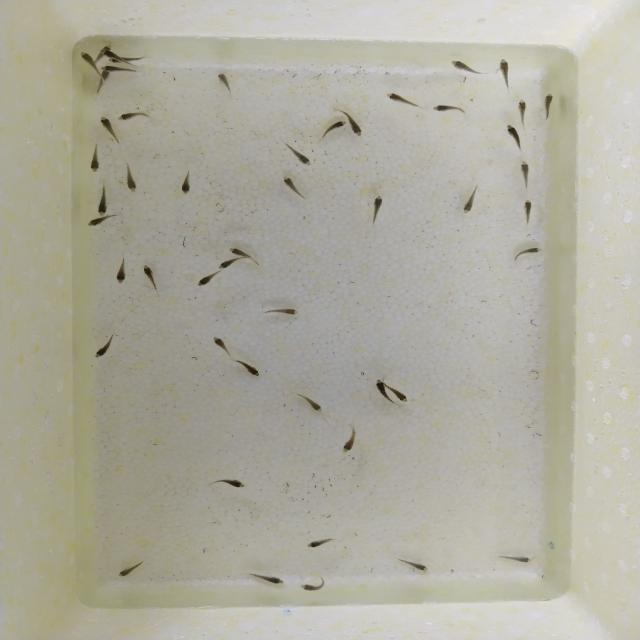fingerling: (89, 329, 125, 361), (339, 419, 364, 459), (115, 160, 142, 193), (290, 392, 330, 414), (341, 106, 366, 139), (284, 139, 314, 166), (445, 60, 488, 78), (140, 262, 164, 294), (120, 555, 148, 582), (278, 176, 306, 202), (394, 554, 434, 572), (204, 477, 251, 492), (297, 534, 341, 550), (461, 184, 481, 219), (366, 190, 386, 224), (501, 123, 526, 150), (110, 251, 128, 287), (384, 90, 418, 109), (84, 213, 120, 230), (514, 245, 546, 264), (215, 74, 238, 100), (85, 144, 105, 173), (496, 552, 536, 566), (97, 117, 120, 141), (320, 116, 343, 140), (496, 58, 513, 90), (249, 572, 286, 586), (520, 197, 537, 227), (514, 100, 532, 128), (210, 336, 234, 357), (392, 380, 413, 404), (297, 582, 335, 595), (516, 159, 534, 186), (268, 305, 302, 319), (235, 360, 260, 379), (92, 189, 108, 217), (176, 168, 193, 194), (430, 102, 470, 113), (369, 377, 388, 399), (195, 274, 220, 290), (77, 51, 95, 73), (215, 258, 242, 272), (542, 93, 556, 119), (99, 65, 144, 72), (119, 111, 154, 120), (227, 247, 257, 257), (96, 48, 125, 58), (98, 70, 110, 93)
